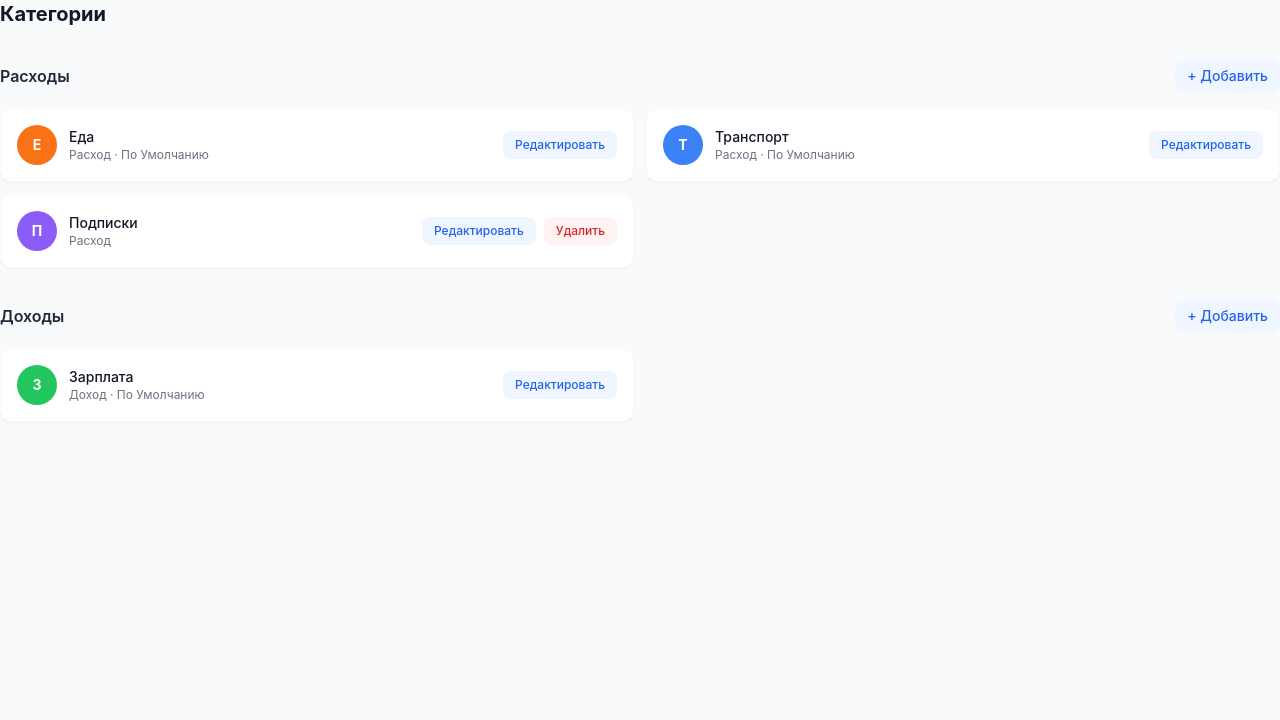
Test: CategoriesPage — удаление категории с транзакциями › предлагает перенос или удаление транзакций
The image size is (1280, 720).
Expected: the text "Подписки" is shown, [69,213,138,233]
What coordinates should you click on to do the following:
click the button "Удалить"
I would click on:
 (580, 231)
Its box is [544,217,617,245].
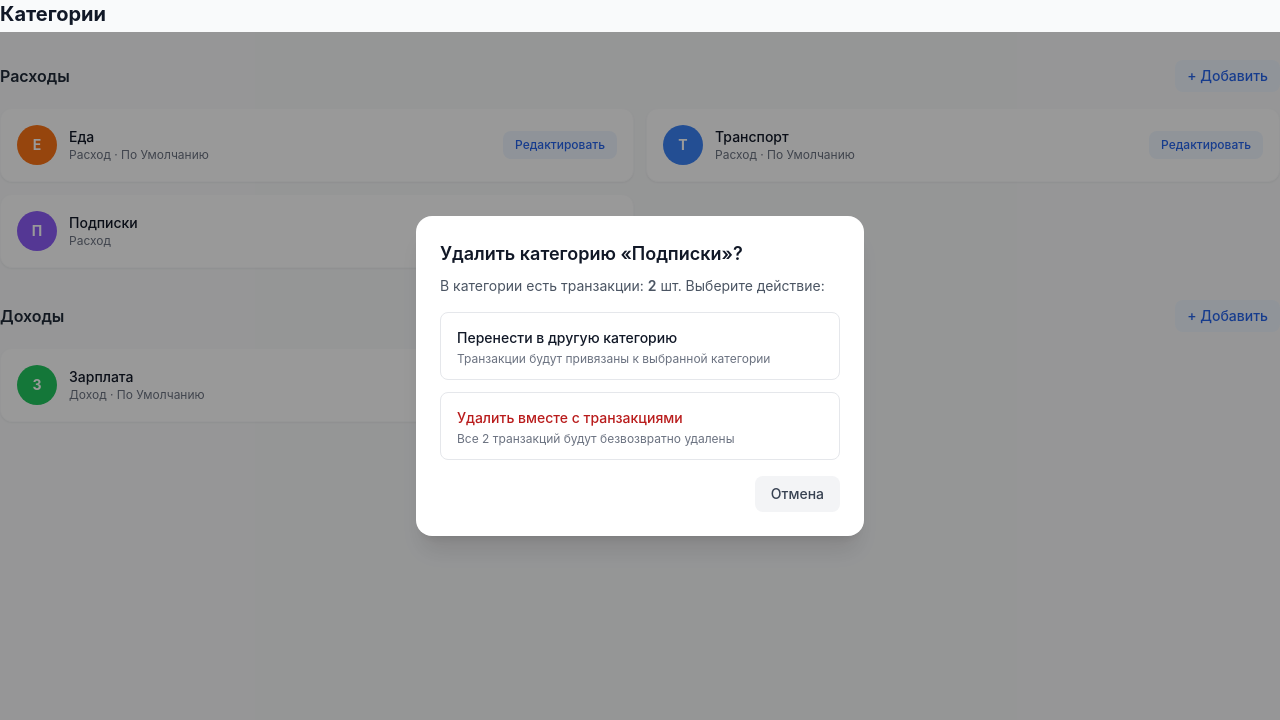
Result: the text "Перенести в другую категорию" is shown at [457,329,677,346]
Result: the text "Удалить вместе с транзакциями" is shown at [457,409,683,426]
Result: the text "Все 2 транзакций будут безвозвратно удалены" is shown at [457,431,734,446]
